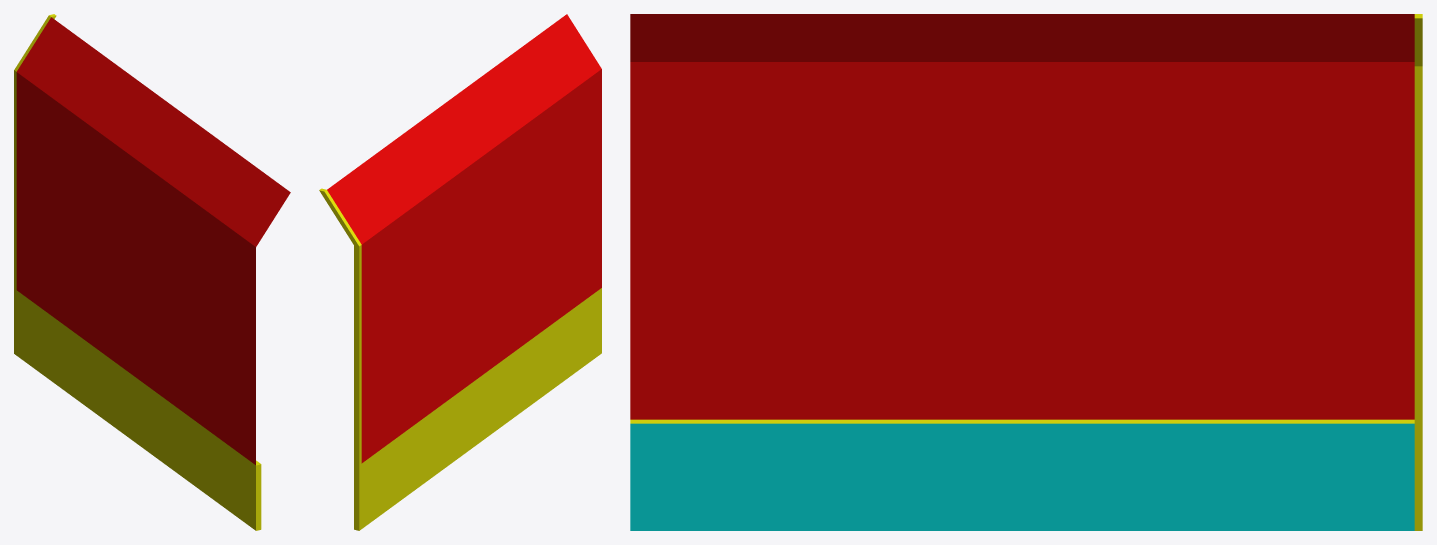
File: Side_Fence.fbx
3 views of the same model, side by side, from view 1: azimuth 30°, elevation 25°; view 2: azimuth 150°, elevation 25°; view 3: azimuth 270°, elevation 25° (orthographic). The views are drawn at different scales.
Visible parts, largest first — view 1: Side_Fence1; view 2: Side_Fence1; view 3: Side_Fence1.
Part boxes in pixels (left/top/right/bottom): Side_Fence1: left=14, top=14, right=290, bottom=530; Side_Fence1: left=319, top=14, right=601, bottom=530; Side_Fence1: left=630, top=14, right=1422, bottom=530.
Size of the model in its own units: 6.96 by 54.74 by 72.75.
